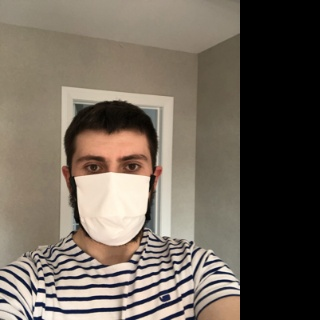with_mask: (72, 146, 152, 247)
